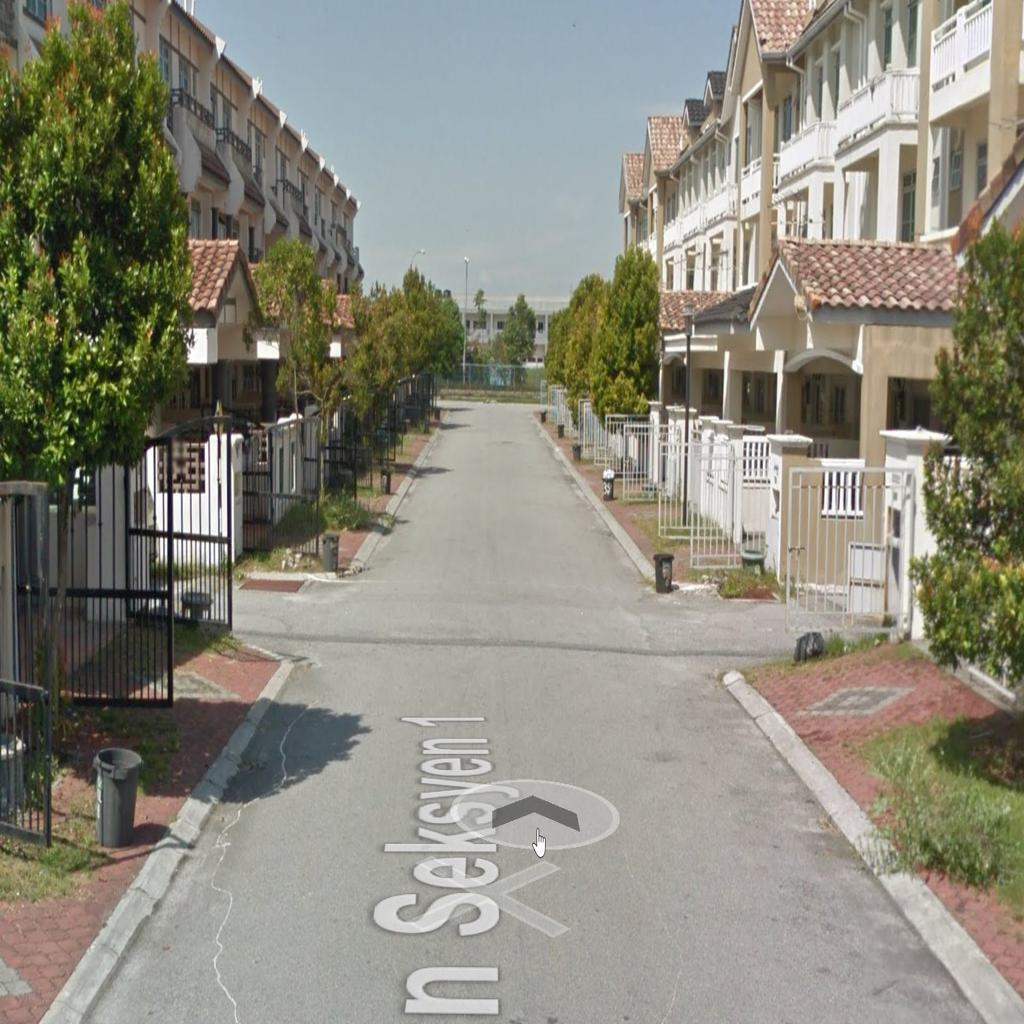Junction: (585, 541, 864, 713), (173, 521, 377, 695)
